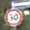limite 30: (4, 7, 22, 26)
